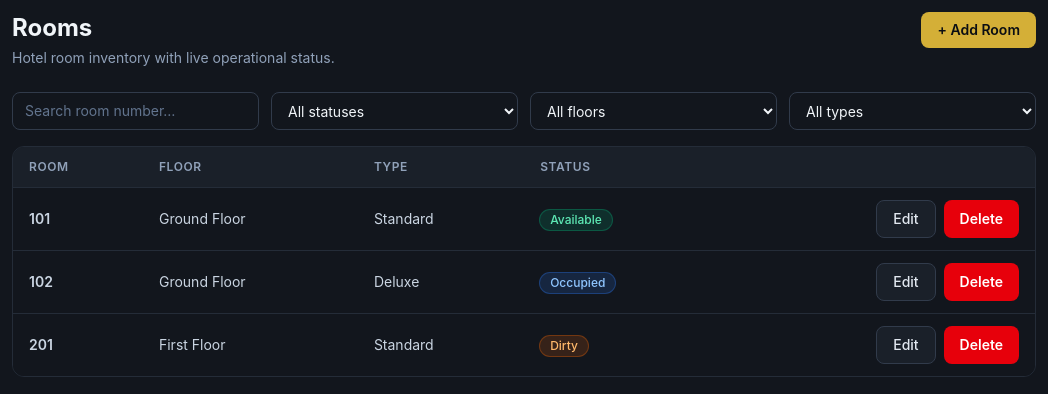
Test: RoomsPage › shows empty state when no rooms match
Check: the text "101" is shown, box [29,210,50,227]
Type "zzz" into the field named "Search rooms" at (136, 111), box [12,92,259,130]
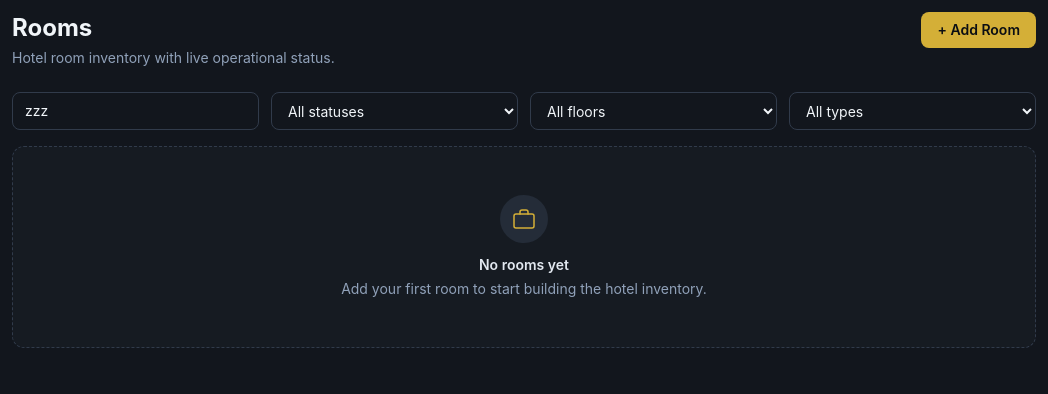
Check: the heading "No rooms yet" is shown, box [479,255,569,275]
